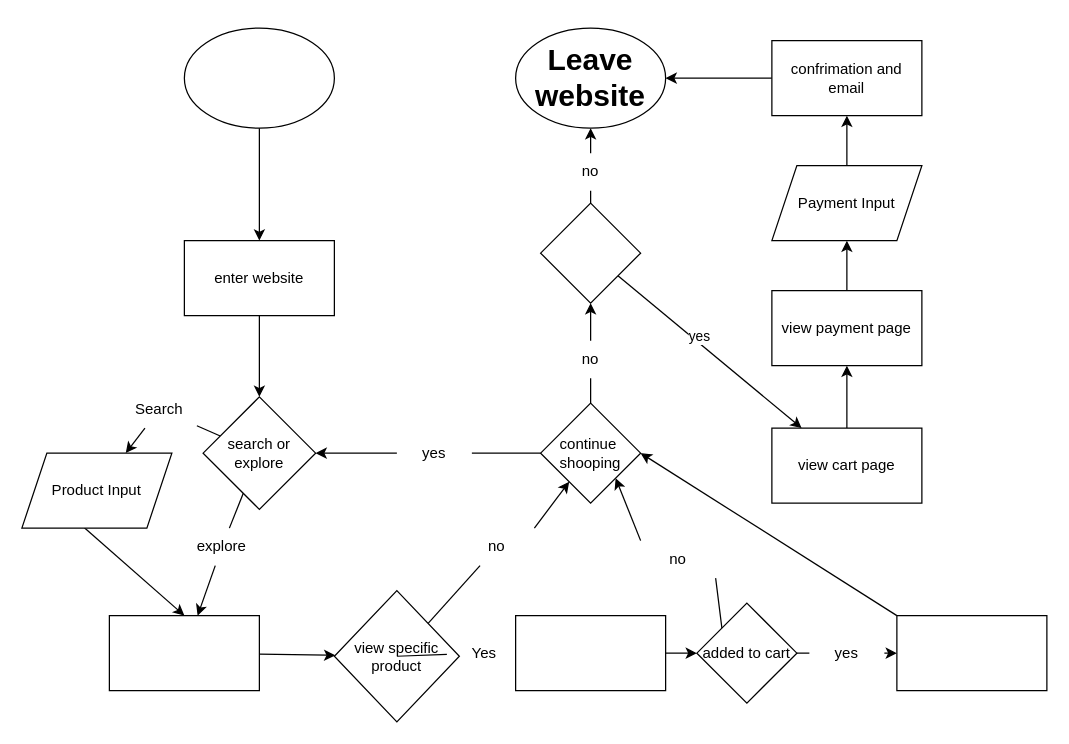
Some shapes in this 1069 by 744 pixel diagram are drawn without their labels. Each missing label, with the centre of its shape:
"added confrim" belongs at [971,652].
"check out" belongs at [590,252].
"Looking over product" belongs at [183,652].
"Product's webpage" belongs at [590,652].
"Start" belongs at [258,77].
